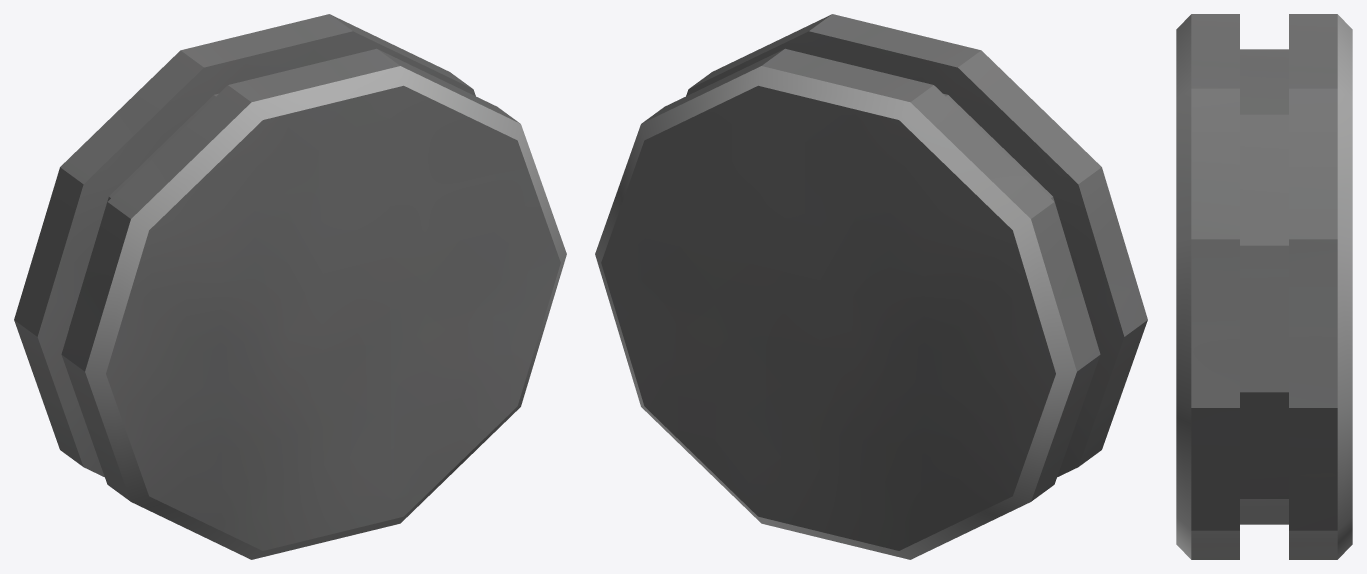
Rendered from small_wheel.fbx.
The picture shows the model from 3 angles, left to right: view 1: azimuth 30°, elevation 25°; view 2: azimuth 150°, elevation 25°; view 3: azimuth 270°, elevation 25°; orthographic projection. The views are drawn at different scales.
Visible parts, largest first — view 1: small_wheel; view 2: small_wheel; view 3: small_wheel.
Part boxes in pixels (<box>): small_wheel: <box>14,14,566,559</box>; small_wheel: <box>595,14,1147,559</box>; small_wheel: <box>1176,14,1352,559</box>.
Size of the model in its own units: 0.684 by 0.6207 by 0.2108.
